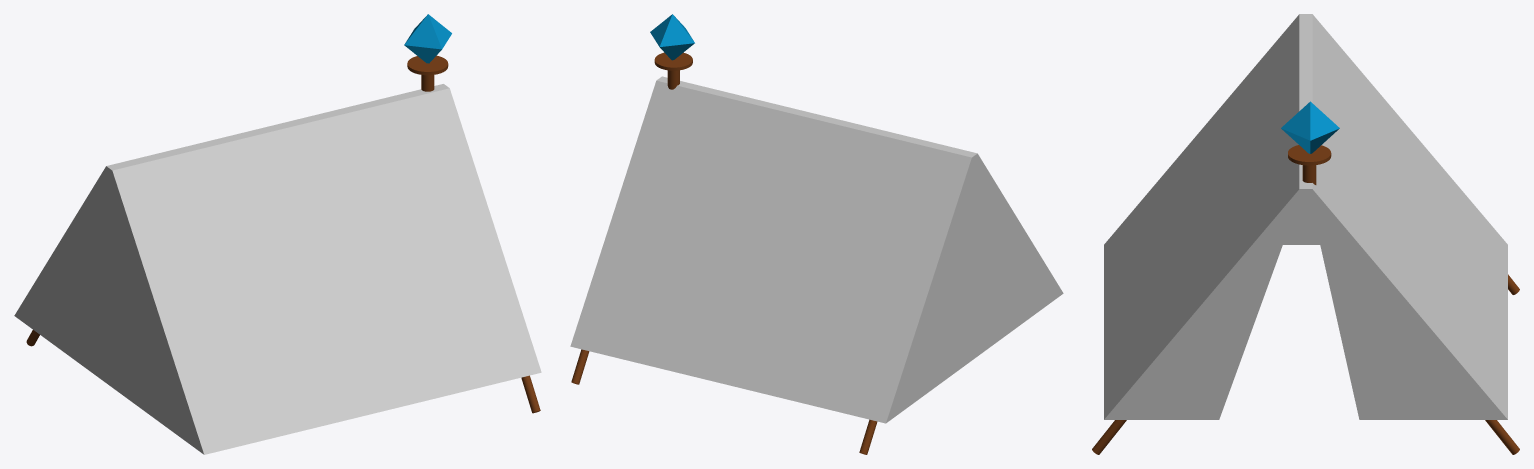
File: templo1.fbx
3 views of the same model, side by side, from view 1: azimuth 30°, elevation 25°; view 2: azimuth 150°, elevation 25°; view 3: azimuth 270°, elevation 25° (orthographic). The views are drawn at different scales.
Visible parts, largest first — view 1: Cube, Sphere, Cylinder_1; view 2: Cube, Sphere, Cylinder_1; view 3: Cube, Sphere, Cylinder_1, Cylinder_1_2.
Part boxes in pixels (<box>): Cube: <box>14,84,541,454</box>; Sphere: <box>404,14,451,63</box>; Cylinder_1: <box>407,55,448,91</box>; Cube: <box>570,76,1063,423</box>; Sphere: <box>650,14,694,60</box>; Cylinder_1: <box>654,52,692,89</box>; Cube: <box>1104,14,1507,419</box>; Sphere: <box>1281,101,1339,153</box>; Cylinder_1: <box>1288,145,1331,184</box>; Cylinder_1_2: <box>1092,420,1519,454</box>.
Size of the model in its own units: 920 by 836 by 929.
